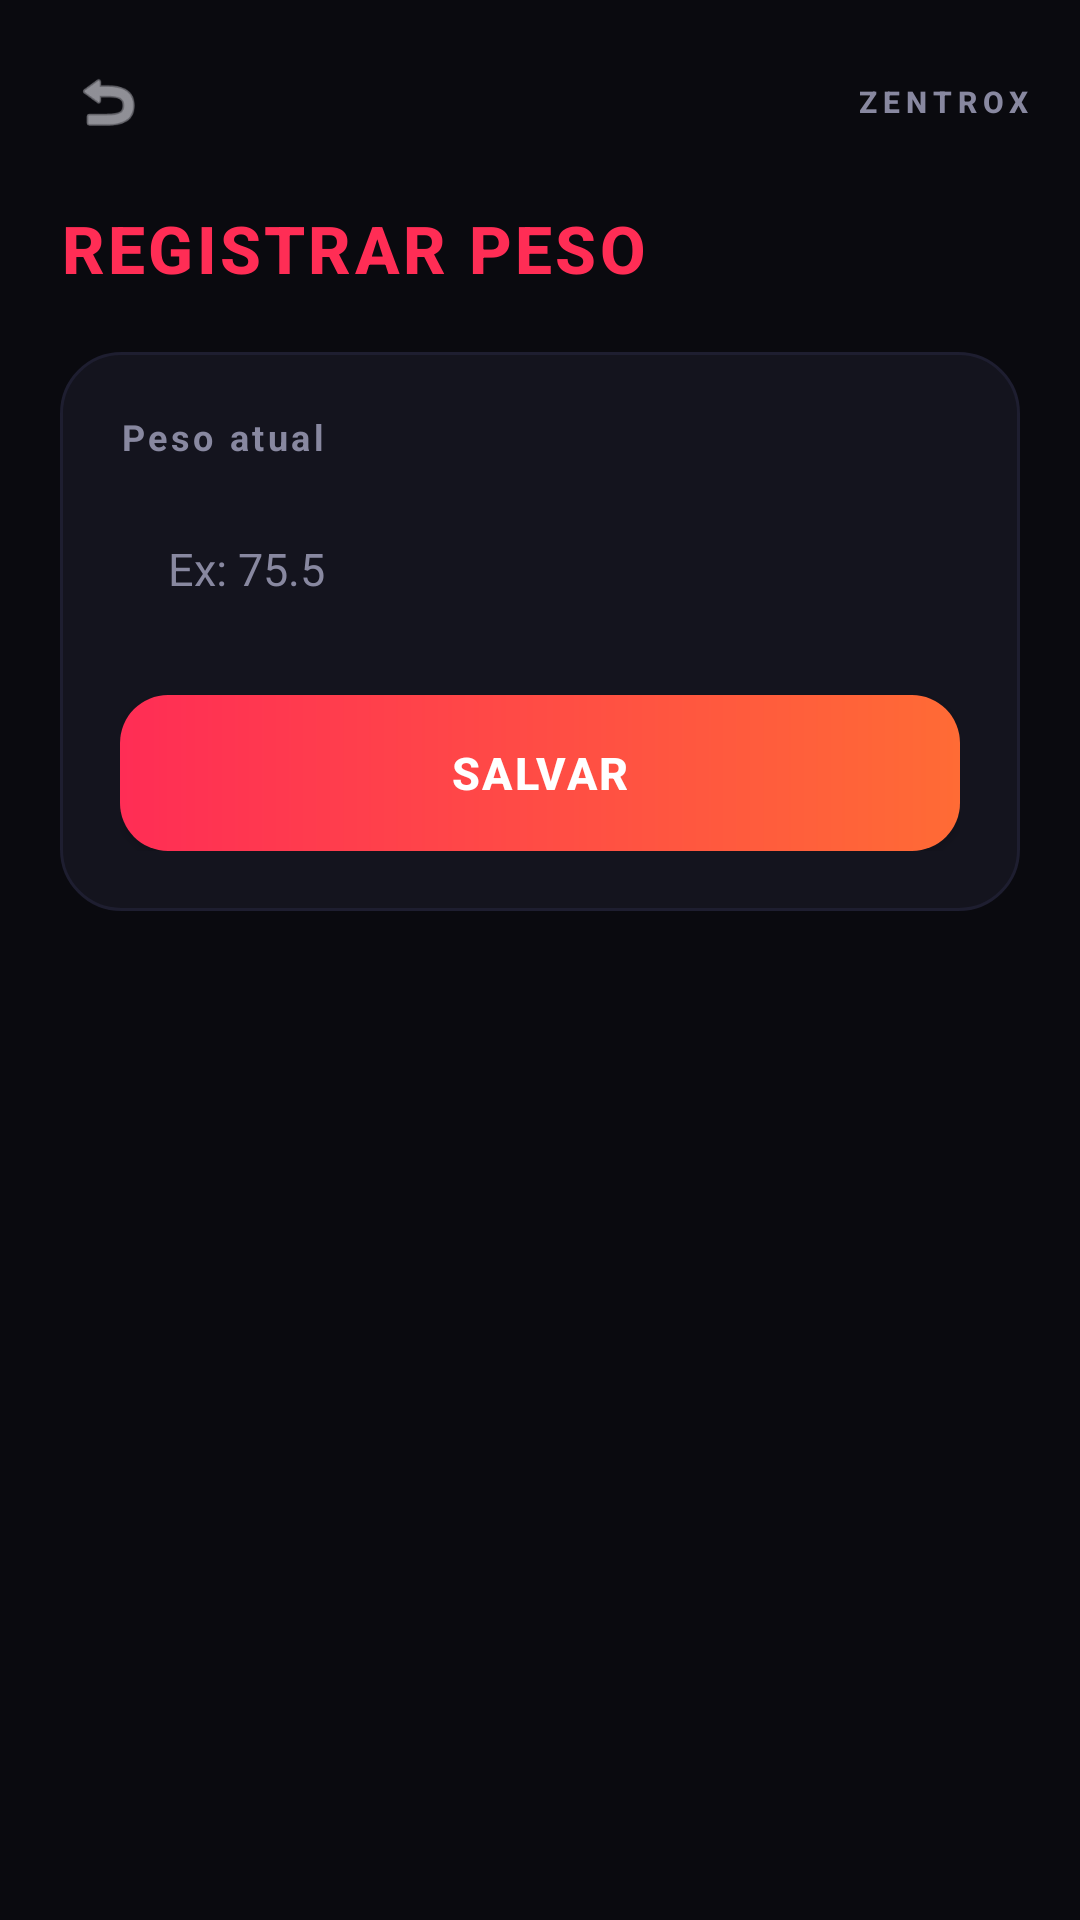

Screen size 1080 x 1920. Icon name, then its center in pixels as [x,y]:
Voltar: [109,102]
